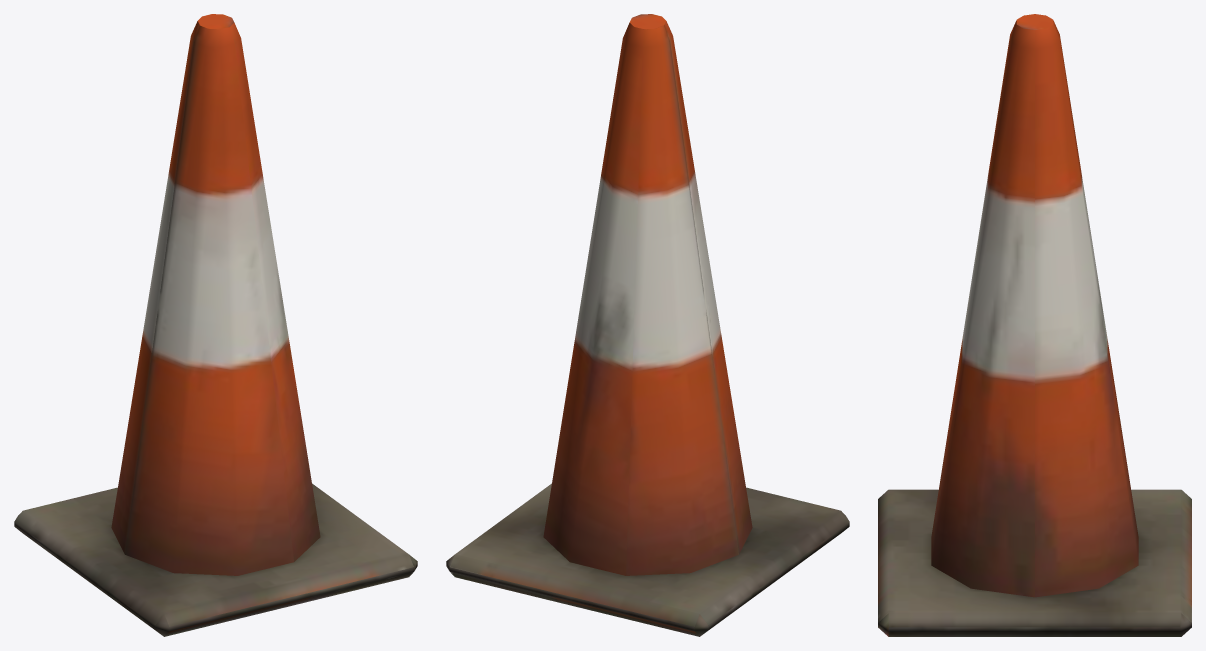
3 renders of one model, left to right at view 1: azimuth 30°, elevation 25°; view 2: azimuth 150°, elevation 25°; view 3: azimuth 270°, elevation 25°, orthographic. The views are drawn at different scales.
Visible parts, largest first — view 1: body; view 2: body; view 3: body.
Boxes of the visible parts, x1=… form: body: x1=14, y1=14, x2=417, y2=636; body: x1=446, y1=14, x2=849, y2=636; body: x1=878, y1=14, x2=1191, y2=636.
Size of the model in its own units: 0.36 by 0.7 by 0.36.
1 material, 1 textured.
